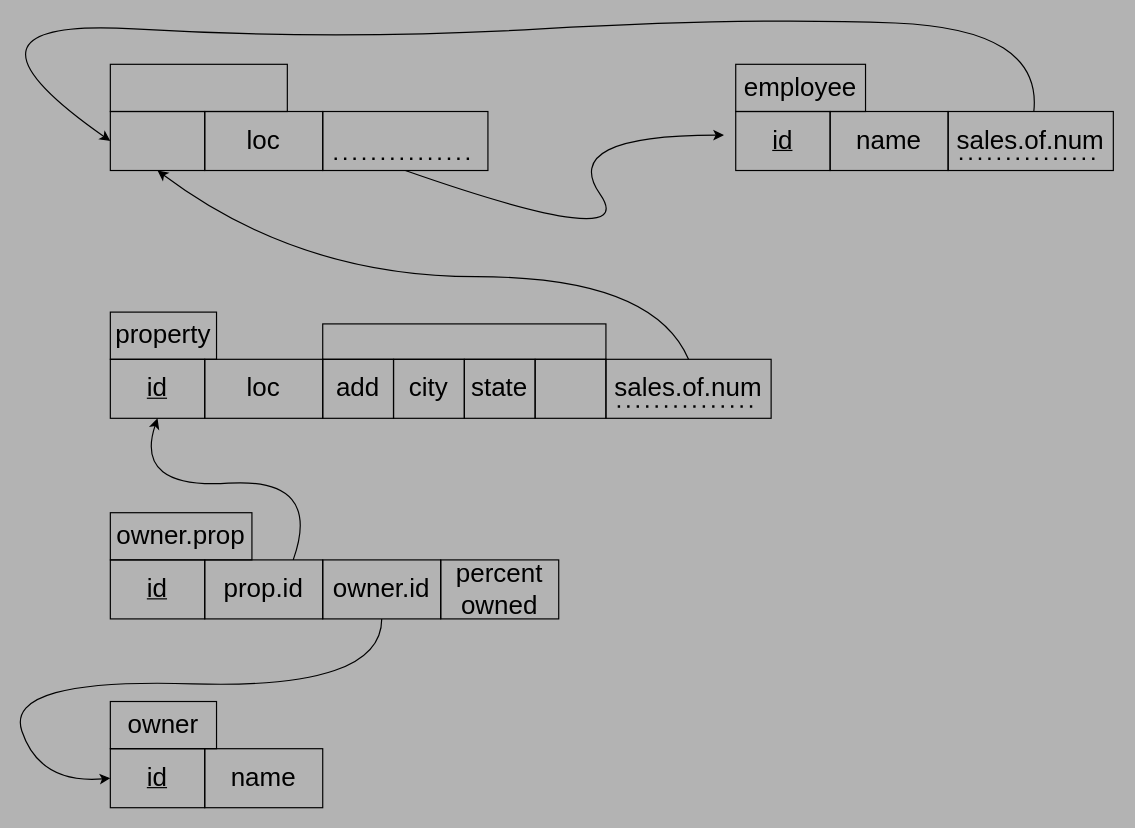
The diagram is 1135 pixels wide and 828 high, and some of its shapes have lost their labels. Each missing label, with the centre of its shape:
location: the point at 464,341
manger.id: the point at 405,140
num: the point at 157,140
sales office: the point at 198,87
zip: the point at 570,388
